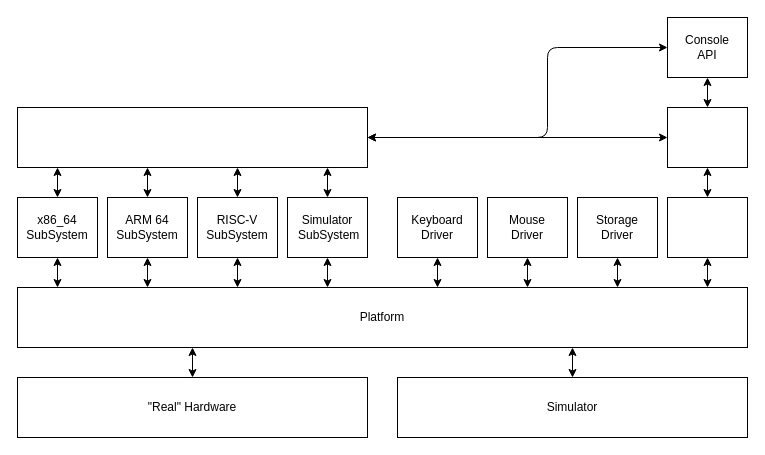
Some shapes in this 765 by 455 pixel diagram are drawn without their labels. The centre of each missing label's shape, as x and y in pixels:
Graphics API: (x=707, y=137)
Kernel "Core": (x=192, y=137)
VGA Driver: (x=707, y=227)
